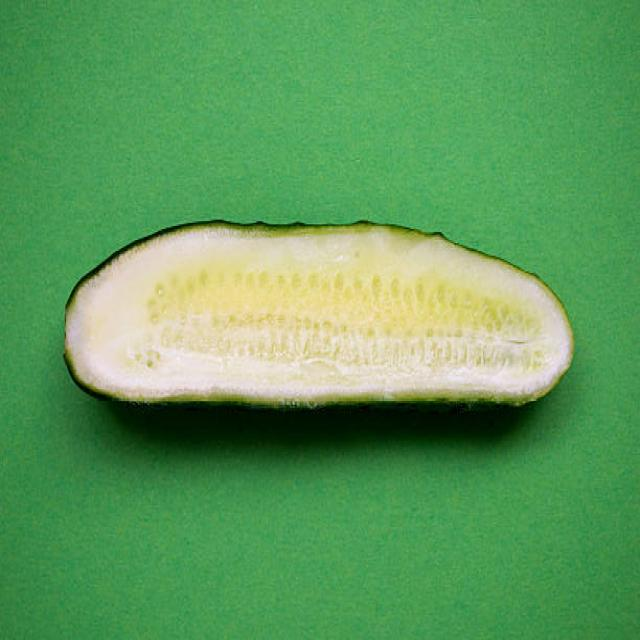cucumber: (64, 217, 571, 422)
